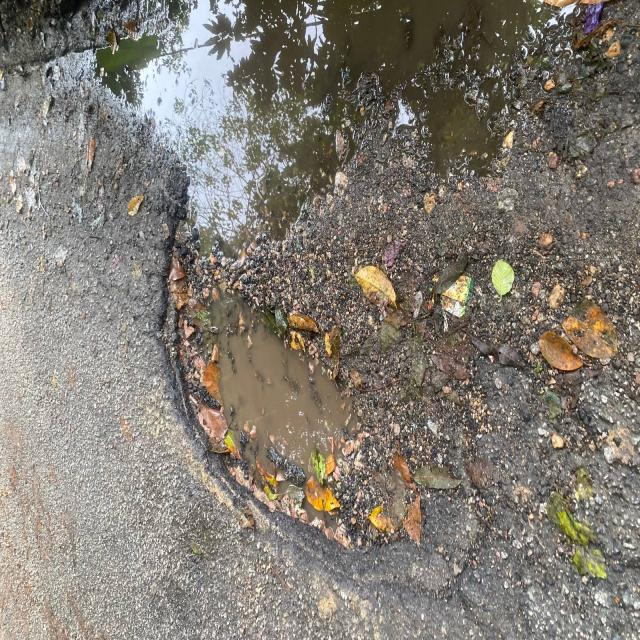Pothole: (132, 200, 504, 636)
